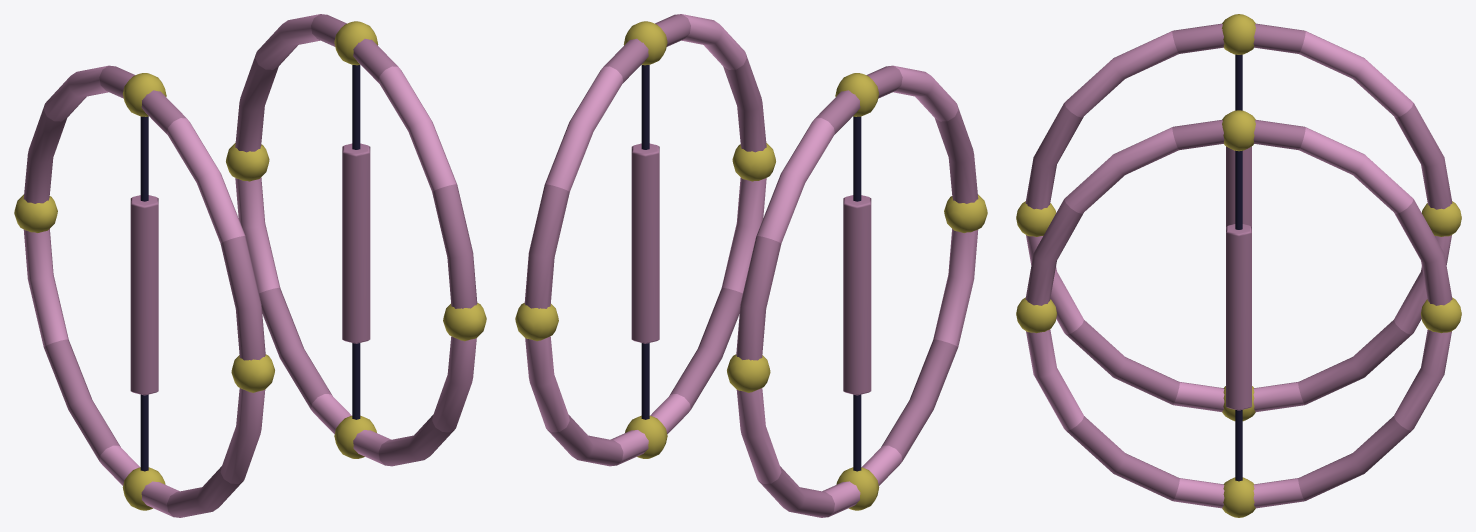
File: Obstacle_04_01.fbx
3 views of the same model, side by side, from view 1: azimuth 30°, elevation 25°; view 2: azimuth 150°, elevation 25°; view 3: azimuth 270°, elevation 25° (orthographic). The views are drawn at different scales.
Visible parts, largest first — view 1: Obstacle_0401; view 2: Obstacle_0401; view 3: Obstacle_0401.
Boxes of the visible parts, box(x1,y1,x2,y2) form: Obstacle_0401: box(14, 14, 486, 517); Obstacle_0401: box(515, 14, 987, 517); Obstacle_0401: box(1016, 14, 1461, 517).
Size of the model in its own units: 317 by 526 by 526.
